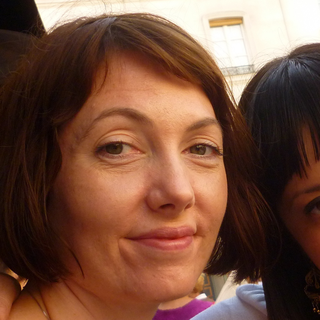eye: (85, 132, 152, 169), (175, 134, 225, 167)
